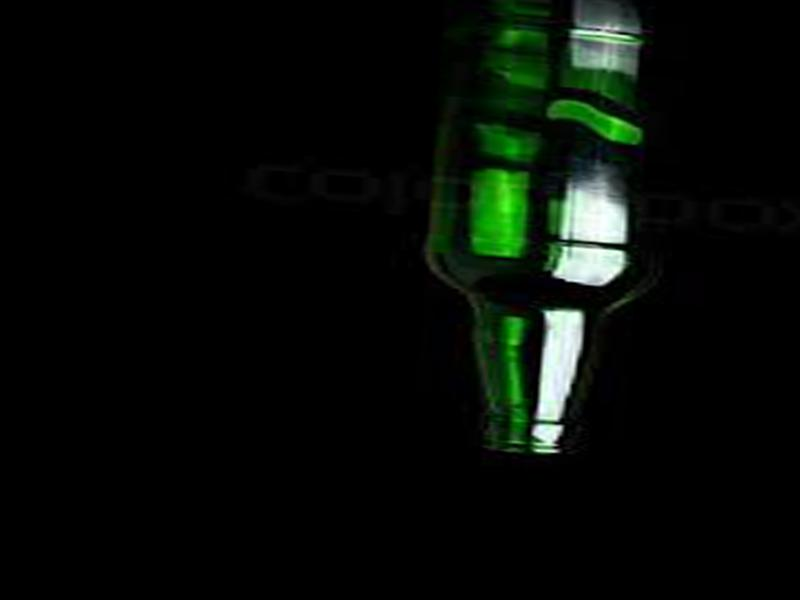Beer: (409, 16, 645, 458)
